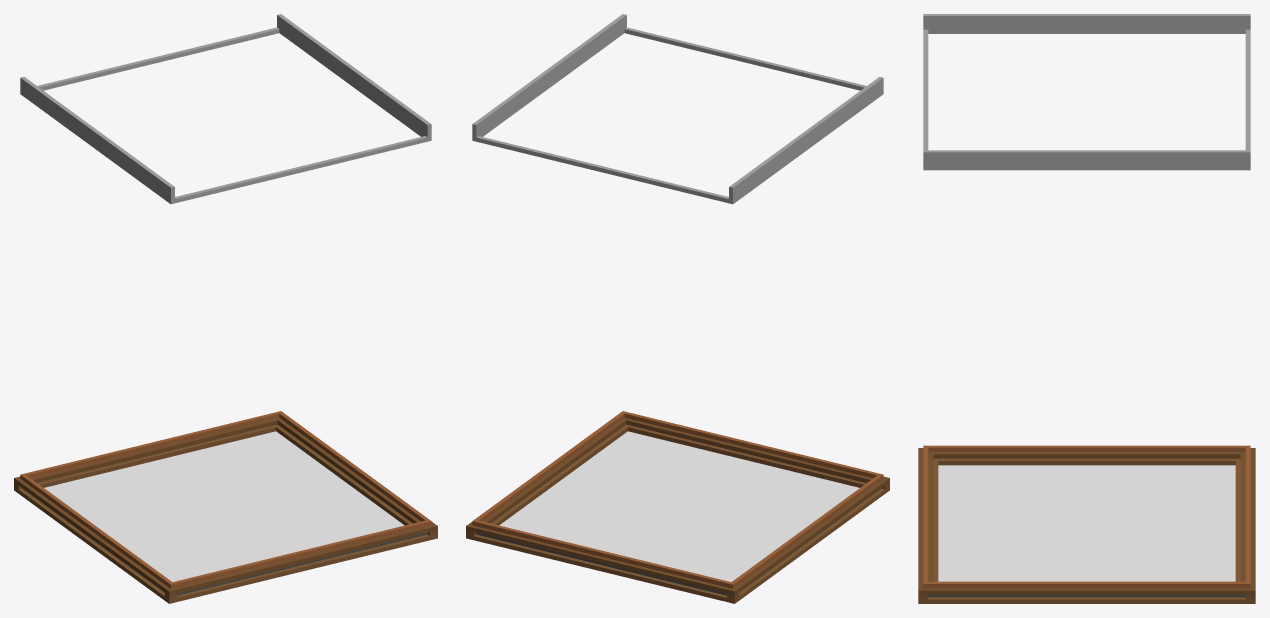
The model's file is PictureFrameBrown.obj.
The picture shows the model from 3 angles, left to right: view 1: azimuth 30°, elevation 25°; view 2: azimuth 150°, elevation 25°; view 3: azimuth 270°, elevation 25°; orthographic projection. The views are drawn at different scales.
Size of the model in its own units: 68 by 100 by 68.
Materials: 1 (1 with a texture image).
